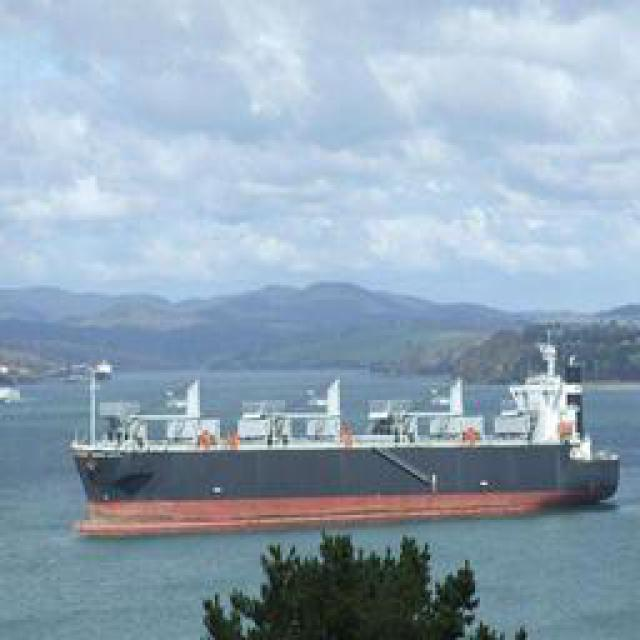Ship: (72, 361, 625, 541)
